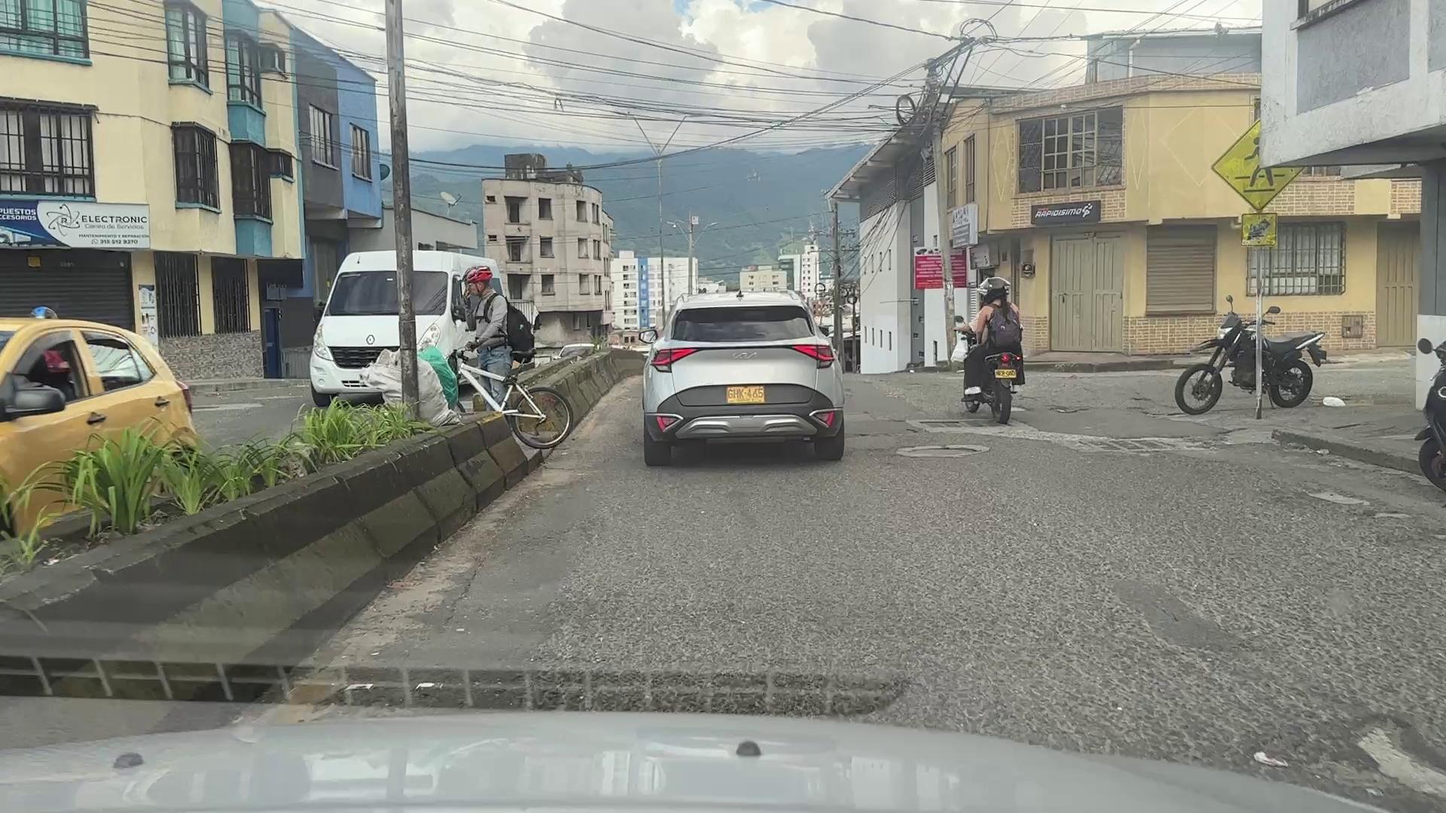bache: (1357, 720, 1445, 799), (1308, 492, 1368, 504), (1374, 513, 1410, 518), (1055, 408, 1088, 413), (1011, 406, 1029, 411)
registro: (909, 448, 976, 455)
rejilla: (1080, 439, 1176, 452), (921, 420, 1011, 429)
